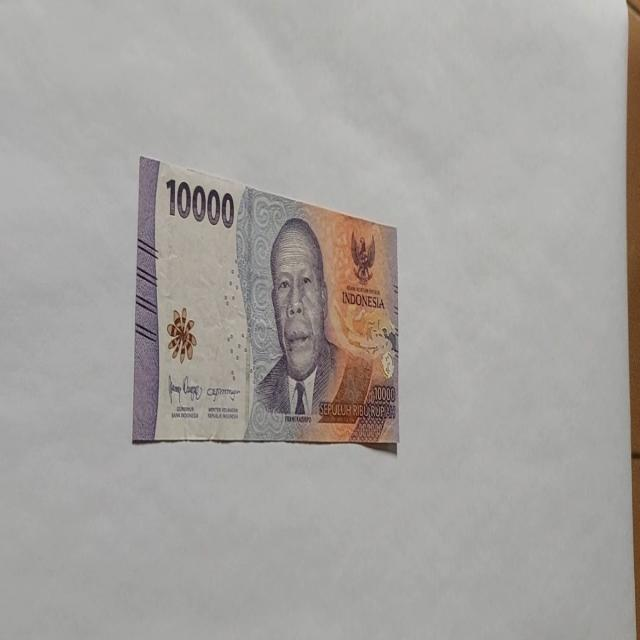sepuluh ribu rupiah: (131, 153, 400, 451), (242, 214, 374, 441)
